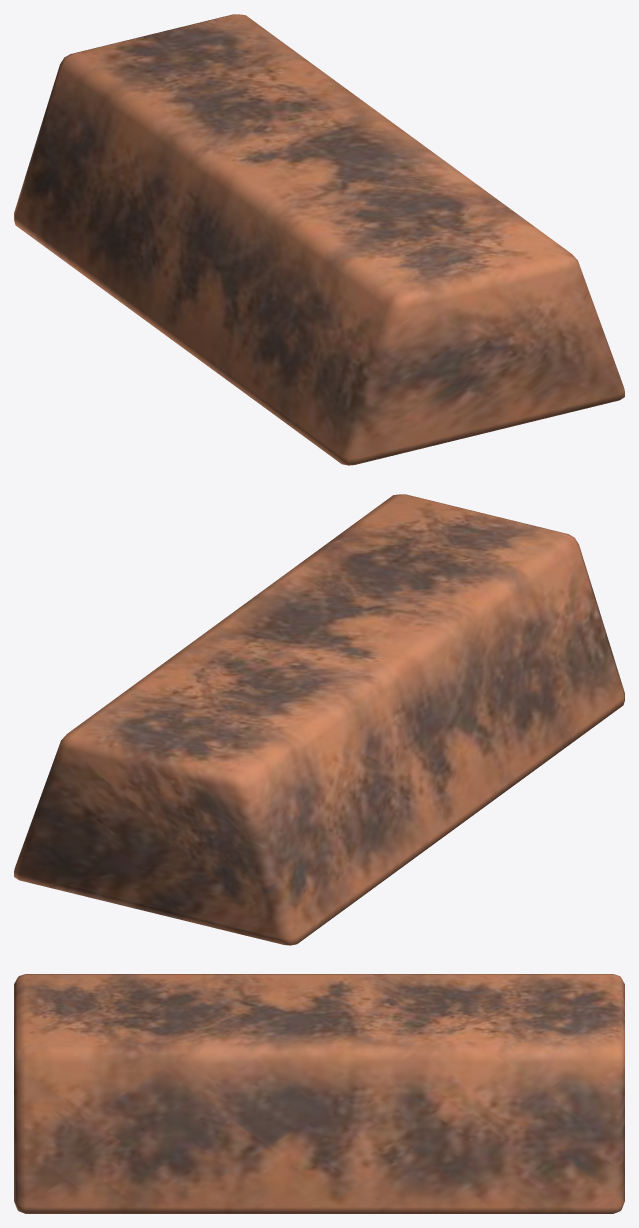
File: copper_ingot.glb
The picture shows the model from 3 angles, top to bottom: view 1: azimuth 30°, elevation 25°; view 2: azimuth 150°, elevation 25°; view 3: azimuth 270°, elevation 25°; orthographic projection. The views are drawn at different scales.
Parts seen in each view (by area): view 1: Copper; view 2: Copper; view 3: Copper.
Part boxes in pixels (x1,y1,x2,y2): Copper: (14,14,624,465); Copper: (14,494,624,945); Copper: (14,974,624,1213).
Bounding box in the file's own units: 0.7635 × 0.4129 × 1.59.
1 material, 1 textured.
